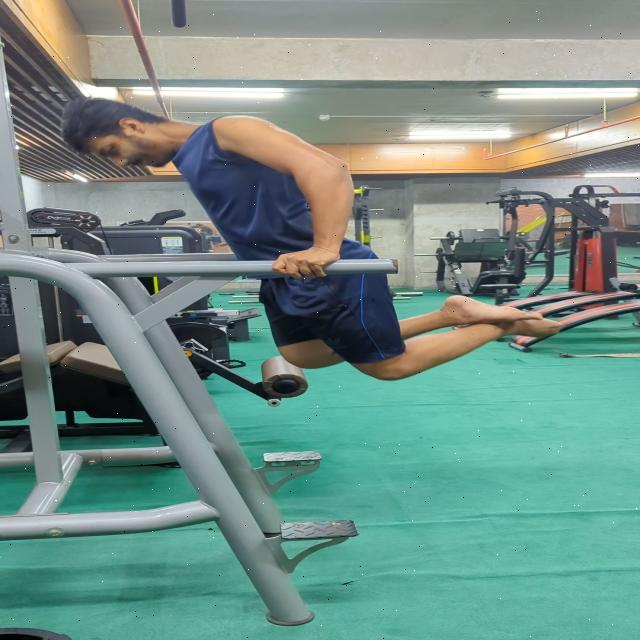Normal_Dips: (56, 93, 572, 385)
